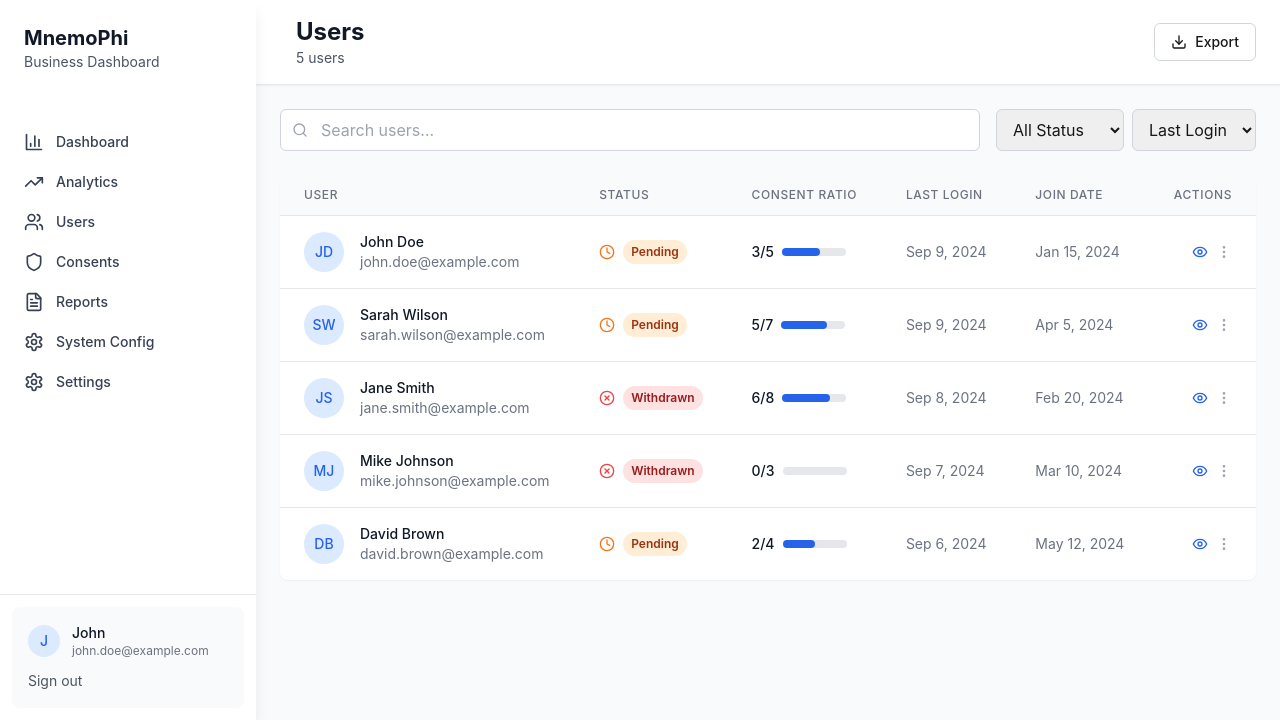
Test: UsersPage › shows empty state when no users match filter
The image size is (1280, 720).
Type "nonexistent" into the field with placeholder "Search users...".
click(630, 130); type("nonexistent")  # box [280,109,980,151]
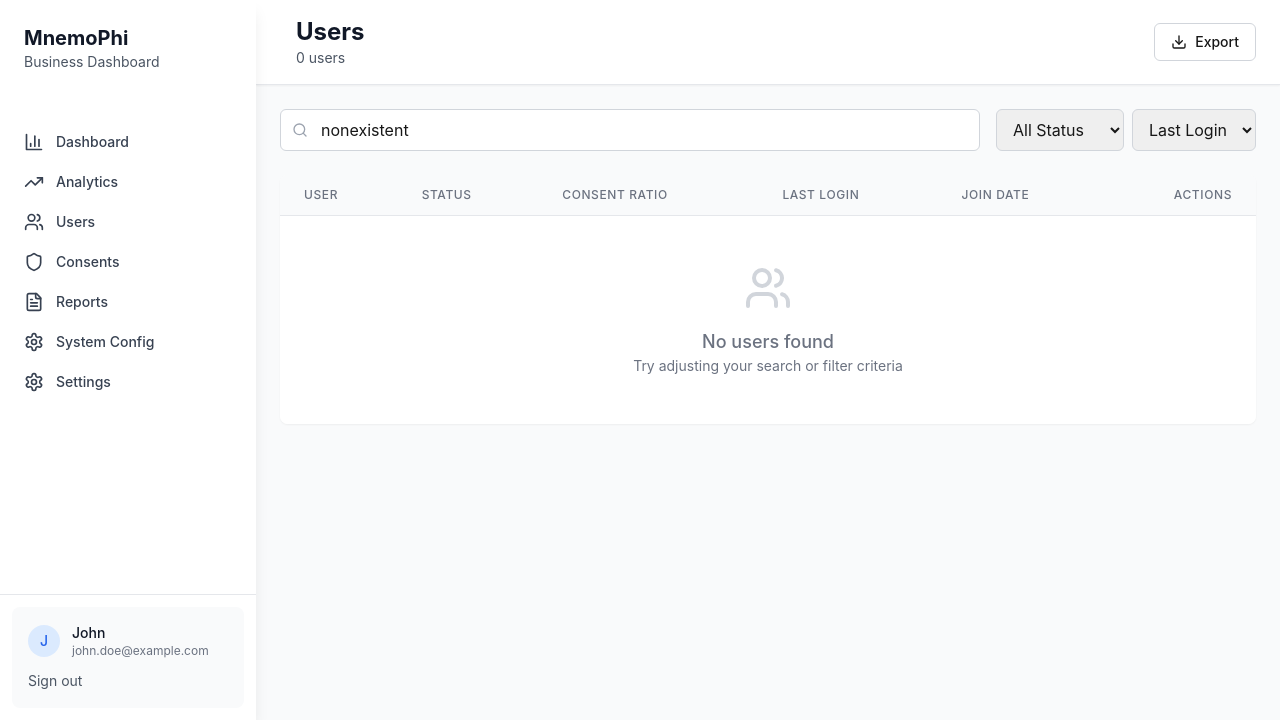
Now the text "No users found" is shown, box [702,331,834,352]
Now the text "Try adjusting your search or filter criteria" is shown, box [633,357,903,374]
